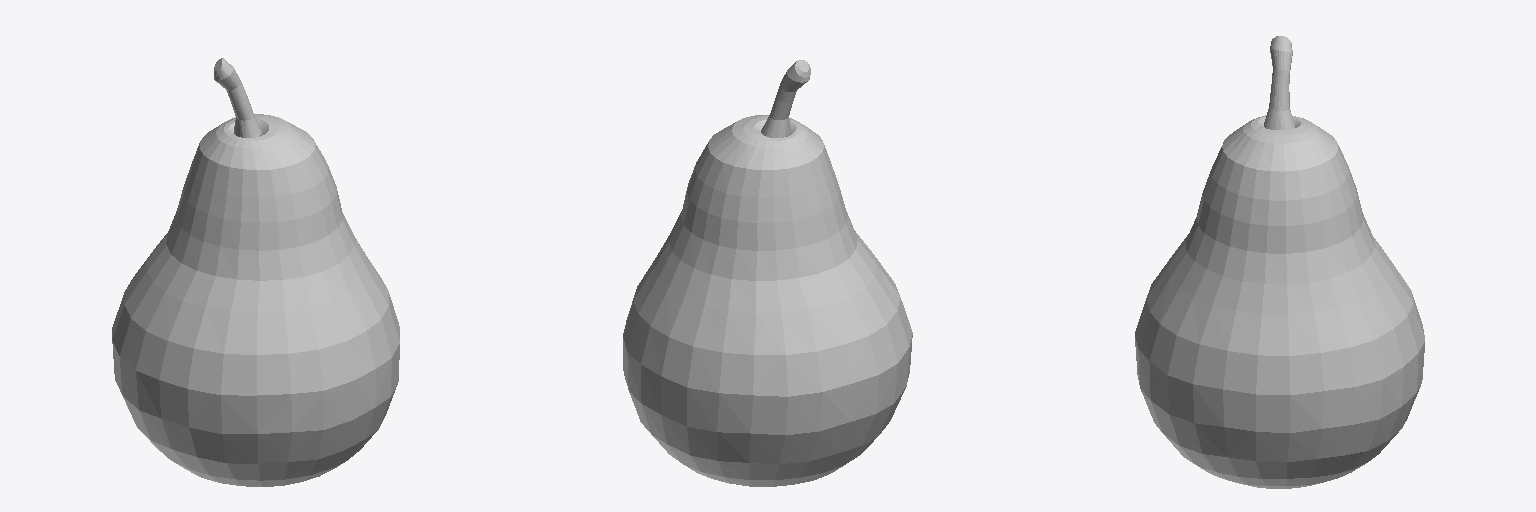
Rendered from Teto Pear final.obj.
3 renders of one model, left to right at view 1: azimuth 30°, elevation 25°; view 2: azimuth 150°, elevation 25°; view 3: azimuth 270°, elevation 25°, orthographic.
Visible parts, largest first — view 1: tetopear; view 2: tetopear; view 3: tetopear.
Part boxes in pixels (x1,y1,x2,y2): tetopear: (112, 58, 399, 486); tetopear: (623, 60, 912, 486); tetopear: (1135, 36, 1424, 488).
Bounding box in the file's own units: 4.77 × 7.42 × 4.79.